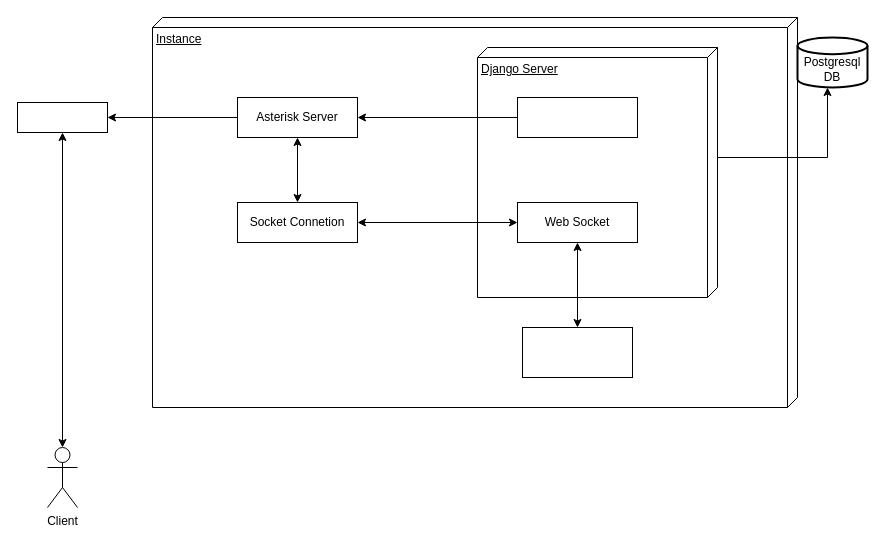
The diagram is 886 pixels wide and 546 high, and some of its shapes have lost their labels. The shapes that lost their labels are listed below. From the top down, each one's centre as x and y in pixels, then its label:
the point at 62,117: Sip Trunk
the point at 577,117: HTTP(s)
the point at 577,352: GPU (Nvidia Series)
